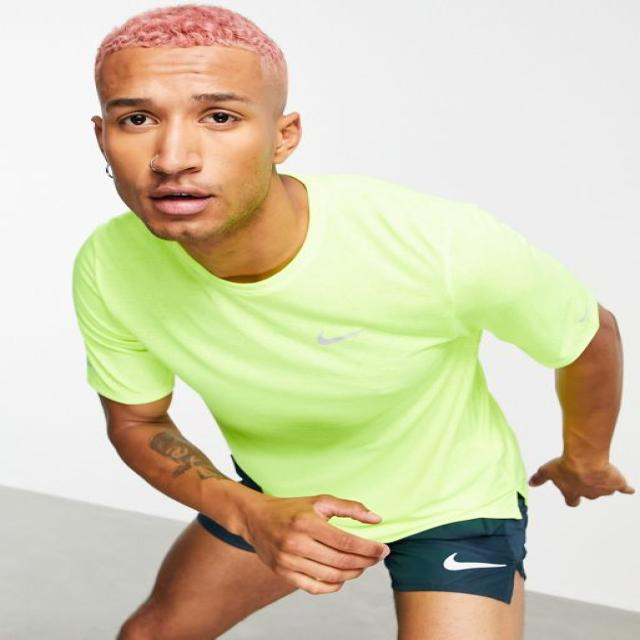tshirt: (70, 172, 599, 546)
